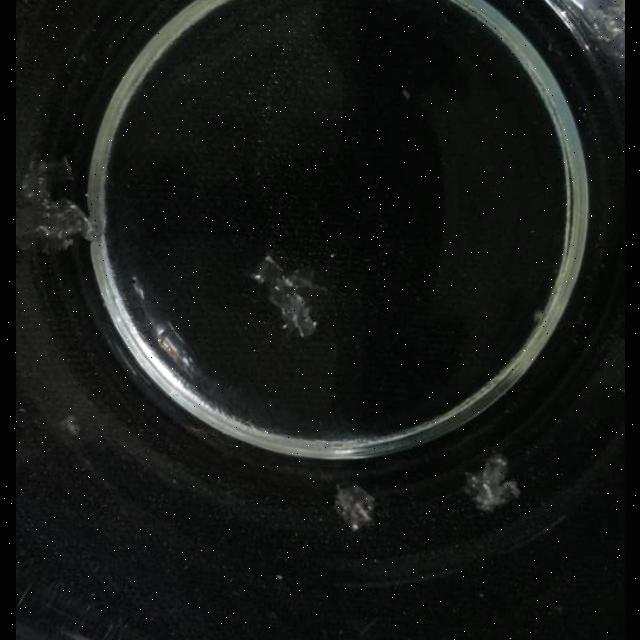Fibre: (15, 154, 99, 256), (533, 310, 547, 326)
Fragment: (252, 252, 328, 338), (463, 454, 521, 512), (332, 482, 378, 532)
microbeads: (58, 414, 80, 436), (402, 88, 411, 100)
